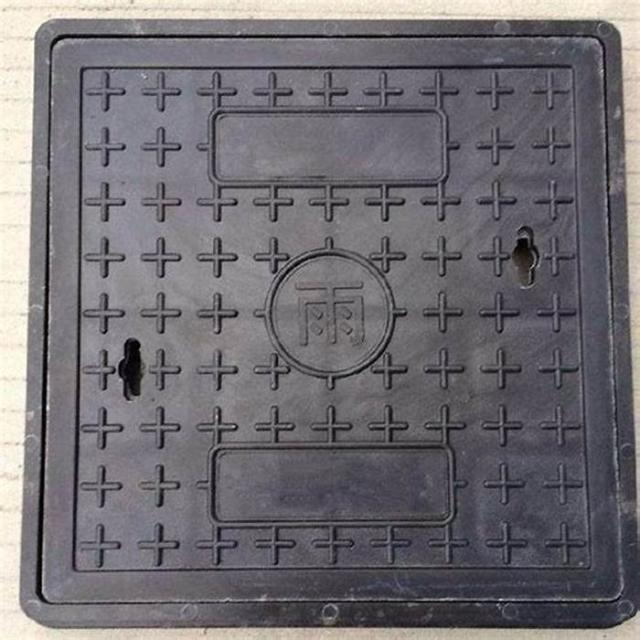manhole: (21, 20, 640, 626)
